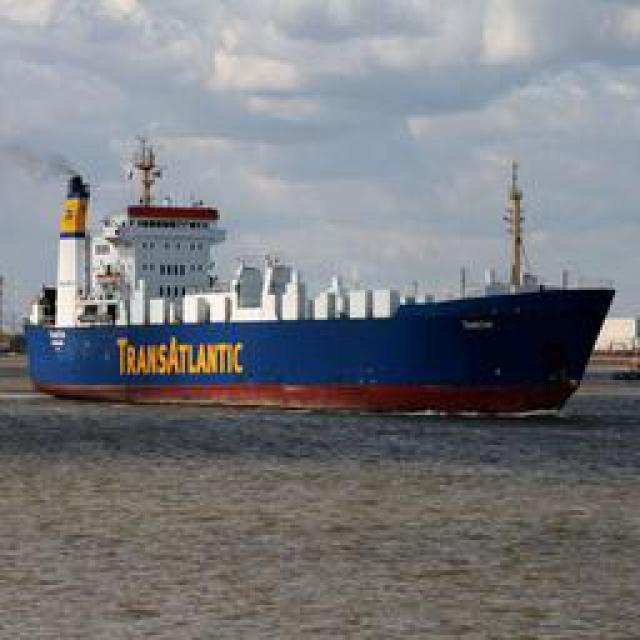Ship: (22, 144, 615, 419)
